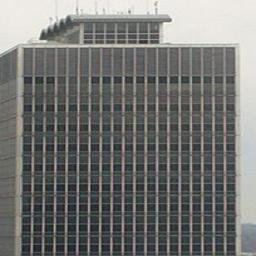building: (16, 7, 241, 256)
